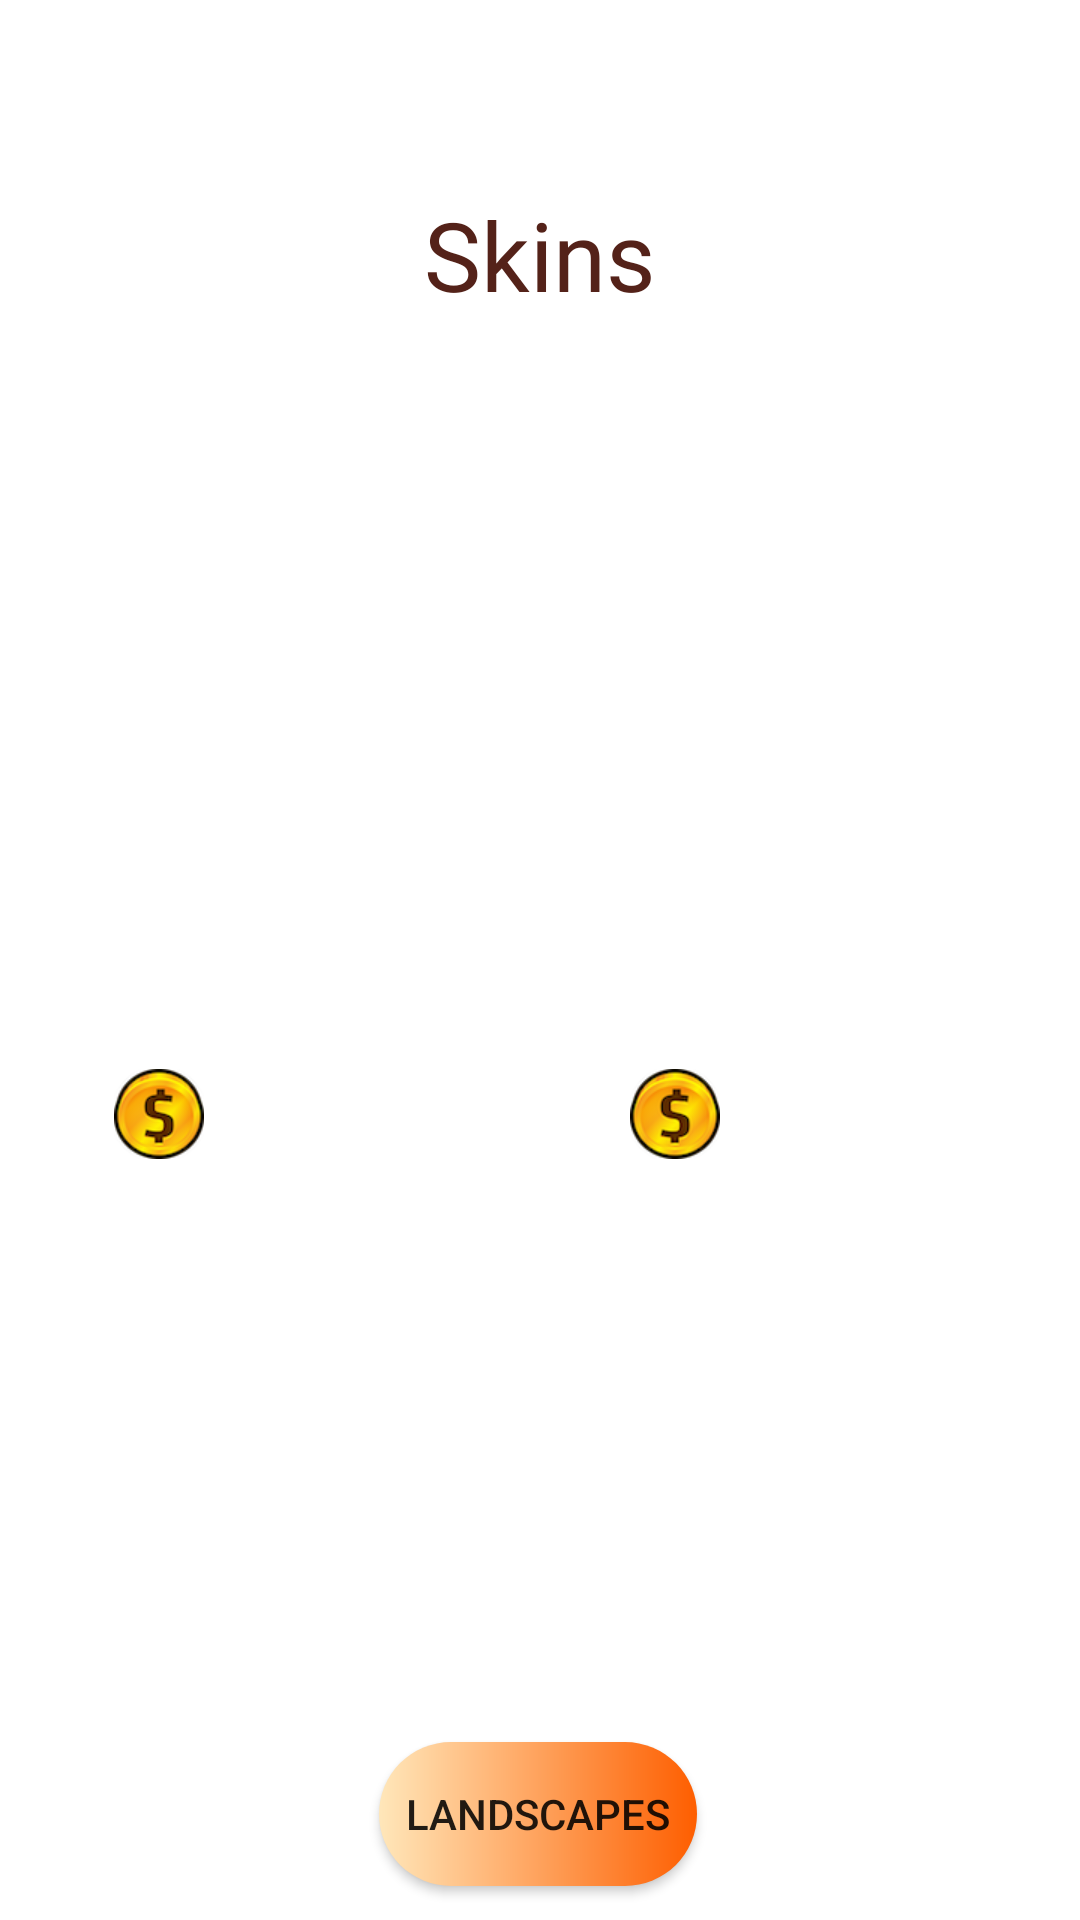

Named icons in this screenshot (1080px x 1920px) and their bounding boxes, (x1, y1, x2, y2):
coin: (114, 1069, 204, 1159), (630, 1069, 720, 1159)
